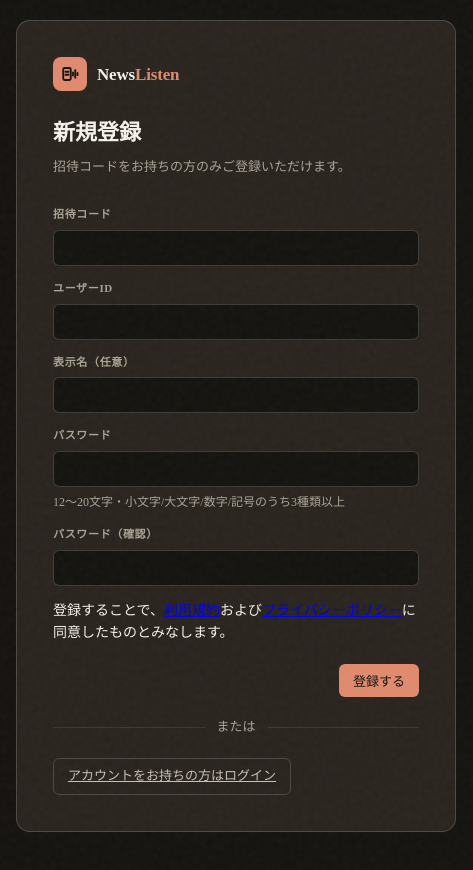
Test case: SignupPage — server error mapping › 422 shows the server-provided validation detail
The width and height of the screenshot is (473, 870).
Type "newbie" into the field labelled "ユーザーID" at (236, 322), box x1=53 y1=304 x2=419 y2=340
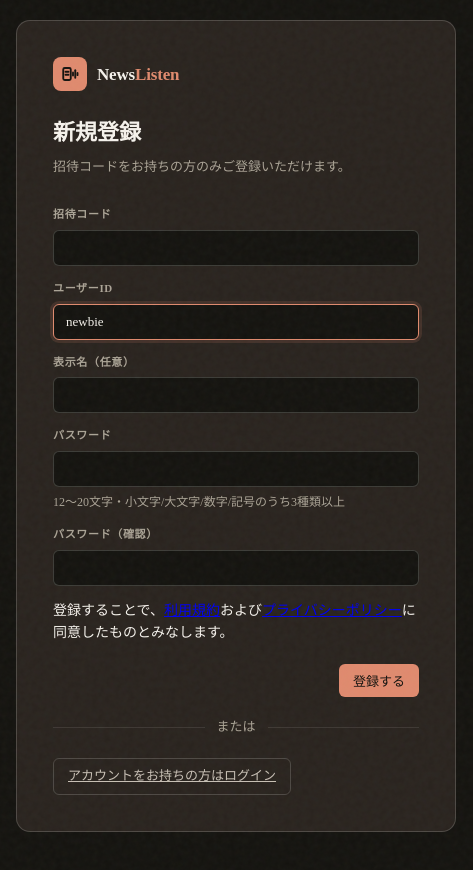
Type "Sup3r-Secret!!" into the password field labelled "パスワード" at (236, 469), box x1=53 y1=451 x2=419 y2=487
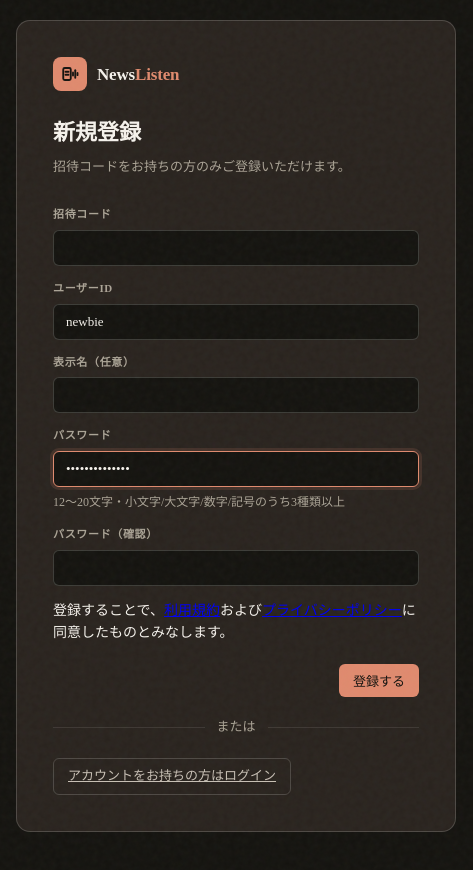
Type "Sup3r-Secret!!" into the password field labelled "パスワード（確認）" at (236, 568), box x1=53 y1=550 x2=419 y2=586
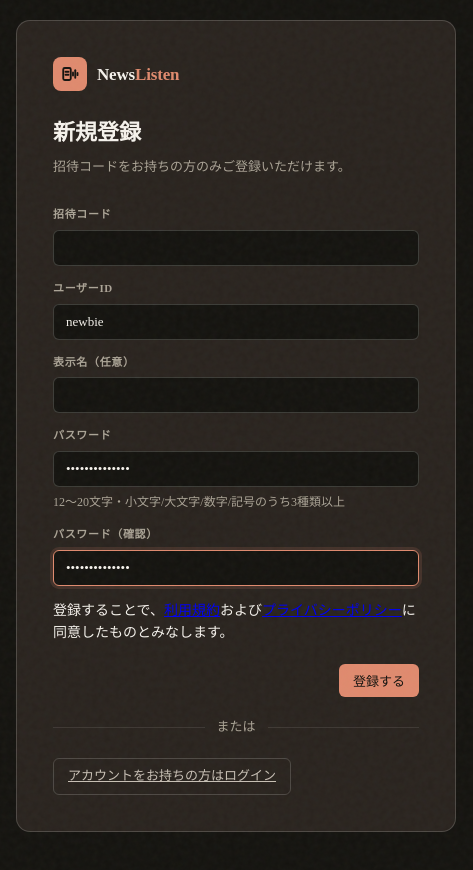
Click the button "登録する" at (379, 681), box x1=339 y1=664 x2=419 y2=697
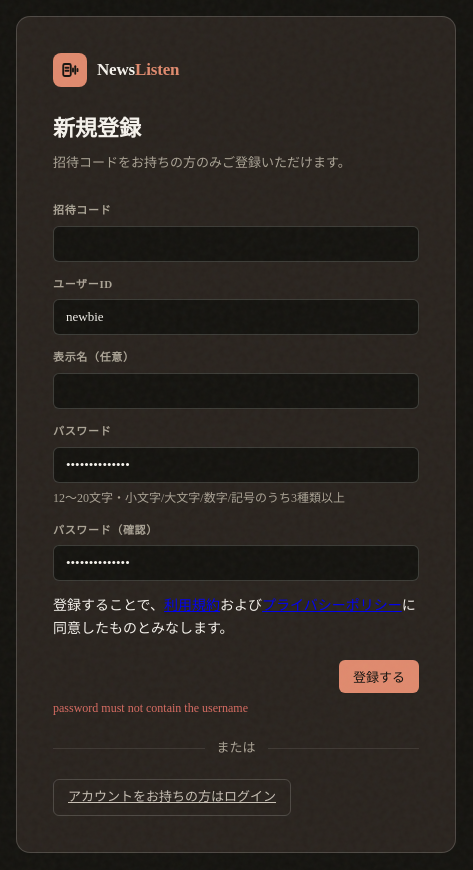
expect the text "password must not contain the username" is shown: met, box x1=53 y1=701 x2=248 y2=715
